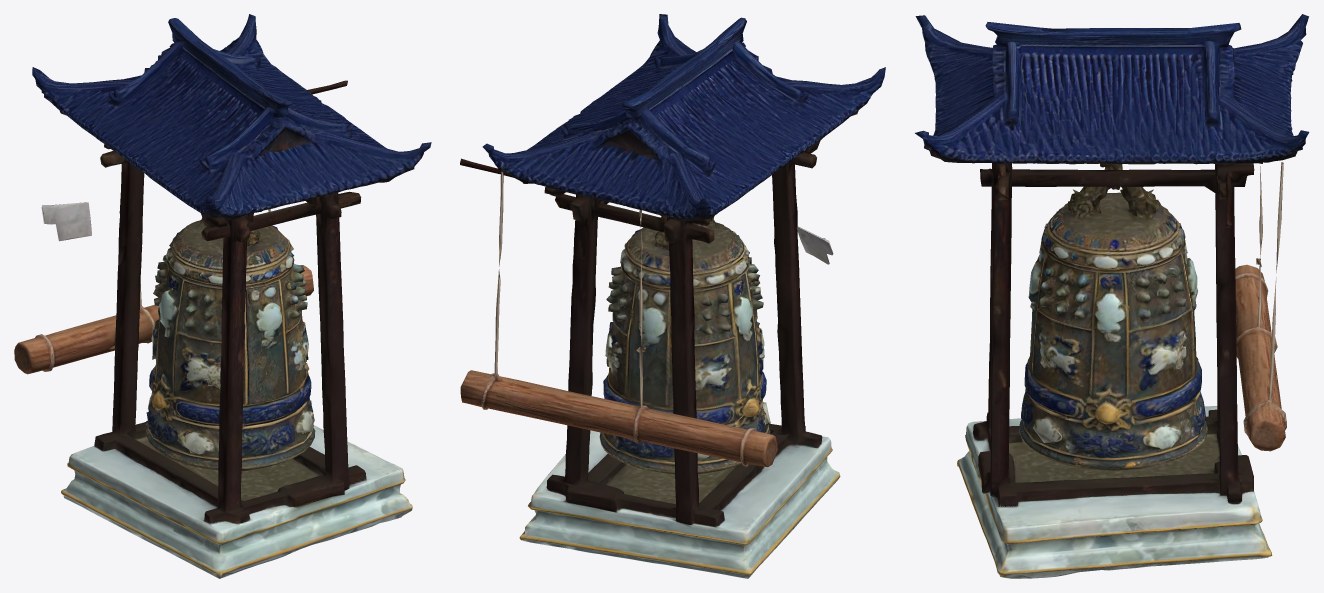
The model's file is bell_frame.glb.
The picture shows the model from 3 angles, left to right: view 1: azimuth 30°, elevation 25°; view 2: azimuth 150°, elevation 25°; view 3: azimuth 270°, elevation 25°; orthographic projection. The views are drawn at different scales.
Visible parts, largest first — view 1: tripo_node_df2a6766-3ccf-4c50-9835-9112a1622a3e; view 2: tripo_node_df2a6766-3ccf-4c50-9835-9112a1622a3e; view 3: tripo_node_df2a6766-3ccf-4c50-9835-9112a1622a3e.
Part boxes in pixels (<box>): tripo_node_df2a6766-3ccf-4c50-9835-9112a1622a3e: <box>14,14,431,578</box>; tripo_node_df2a6766-3ccf-4c50-9835-9112a1622a3e: <box>460,14,885,578</box>; tripo_node_df2a6766-3ccf-4c50-9835-9112a1622a3e: <box>915,14,1309,578</box>.
Bounding box in the file's own units: 0.7835 × 1 × 0.7311.
Materials: 1 (1 with a texture image).
